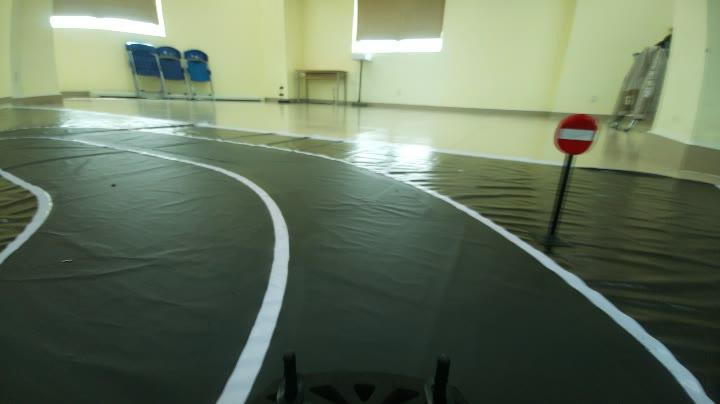no_entry: (552, 106, 606, 166)
